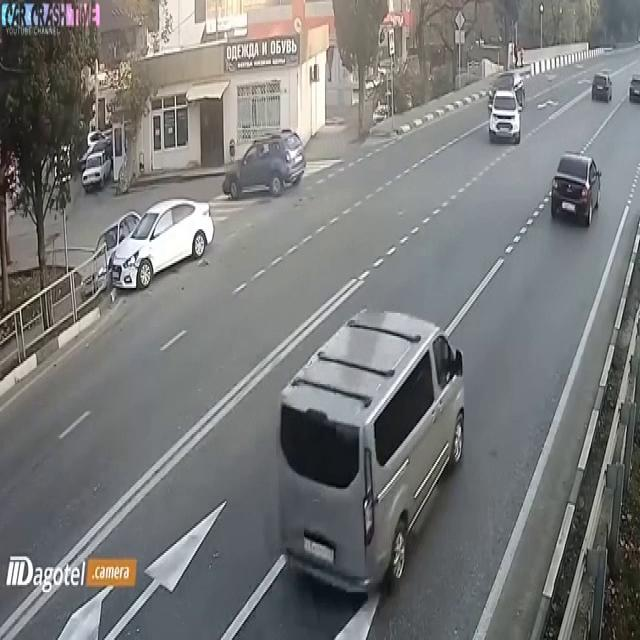accident: (76, 191, 194, 310)
